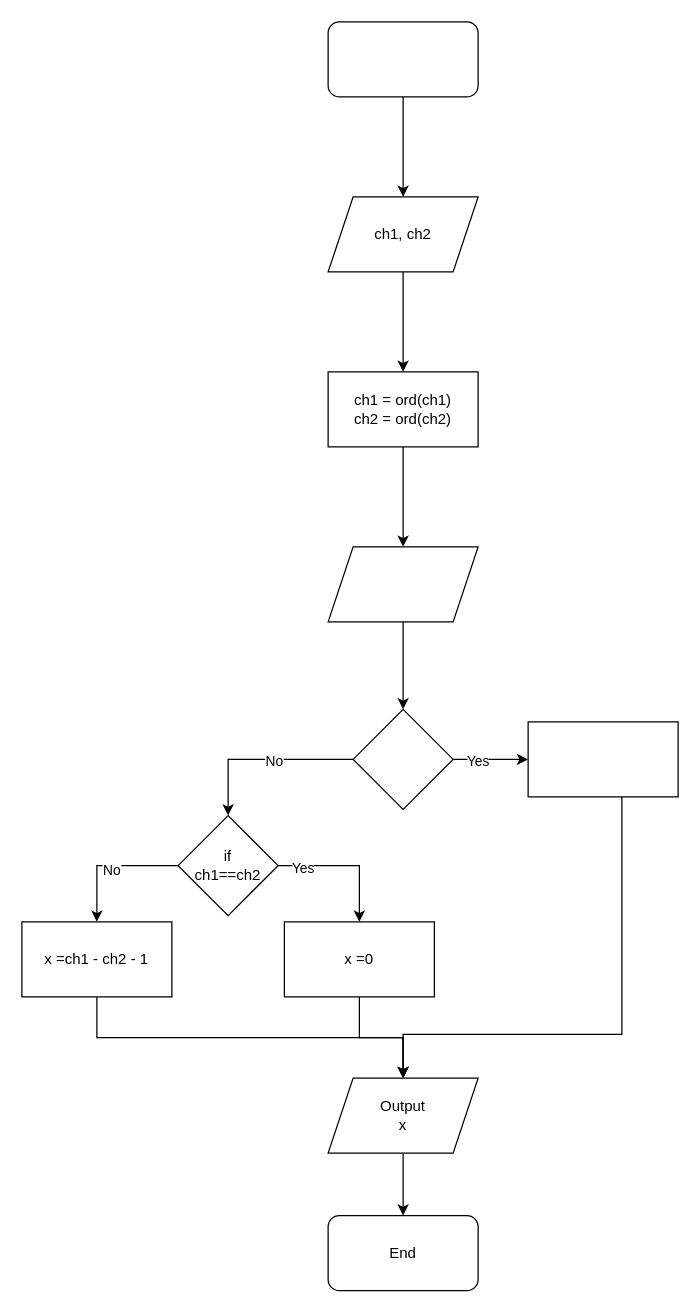
The diagram is 700 pixels wide and 1313 high, and some of its shapes have lost their labels. The shapes that lost their labels are listed below. From the top down, each one's centre as x and y in pixels, then its label:
pixel 402 59: Start
pixel 402 584: ch1-96 ch2-96
pixel 402 758: if ch2 > ch1
pixel 602 759: x = ch2 - ch1 - 1
